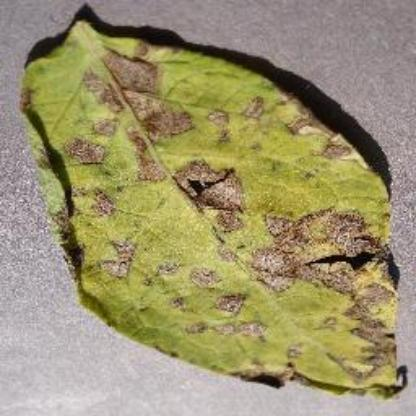Early-Blight: (16, 13, 410, 400)
